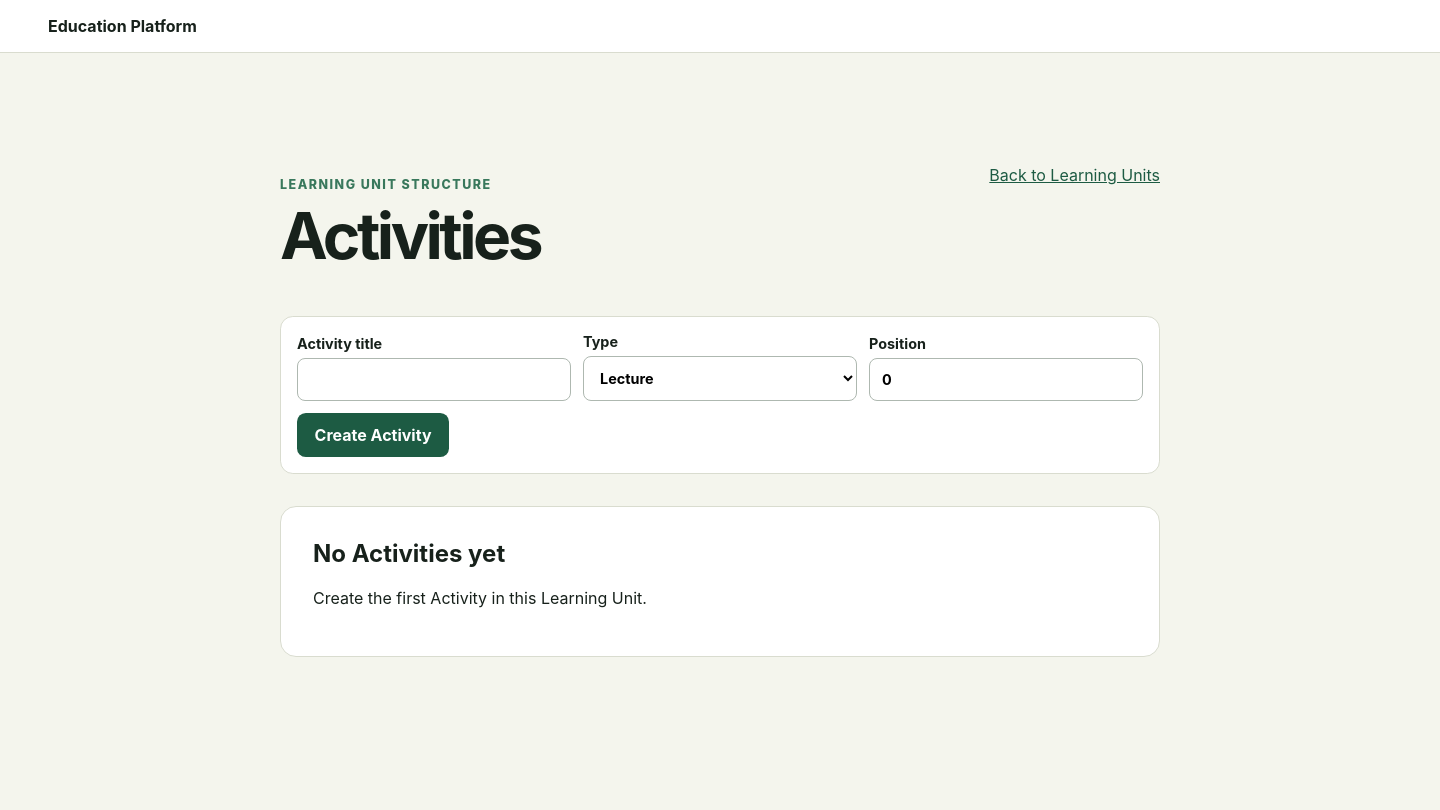
Activity UI › creates an Activity and refetches the scoped list
Type "Lecture One" into the field labelled "Activity title" at (434, 380), box [297,358,571,401]
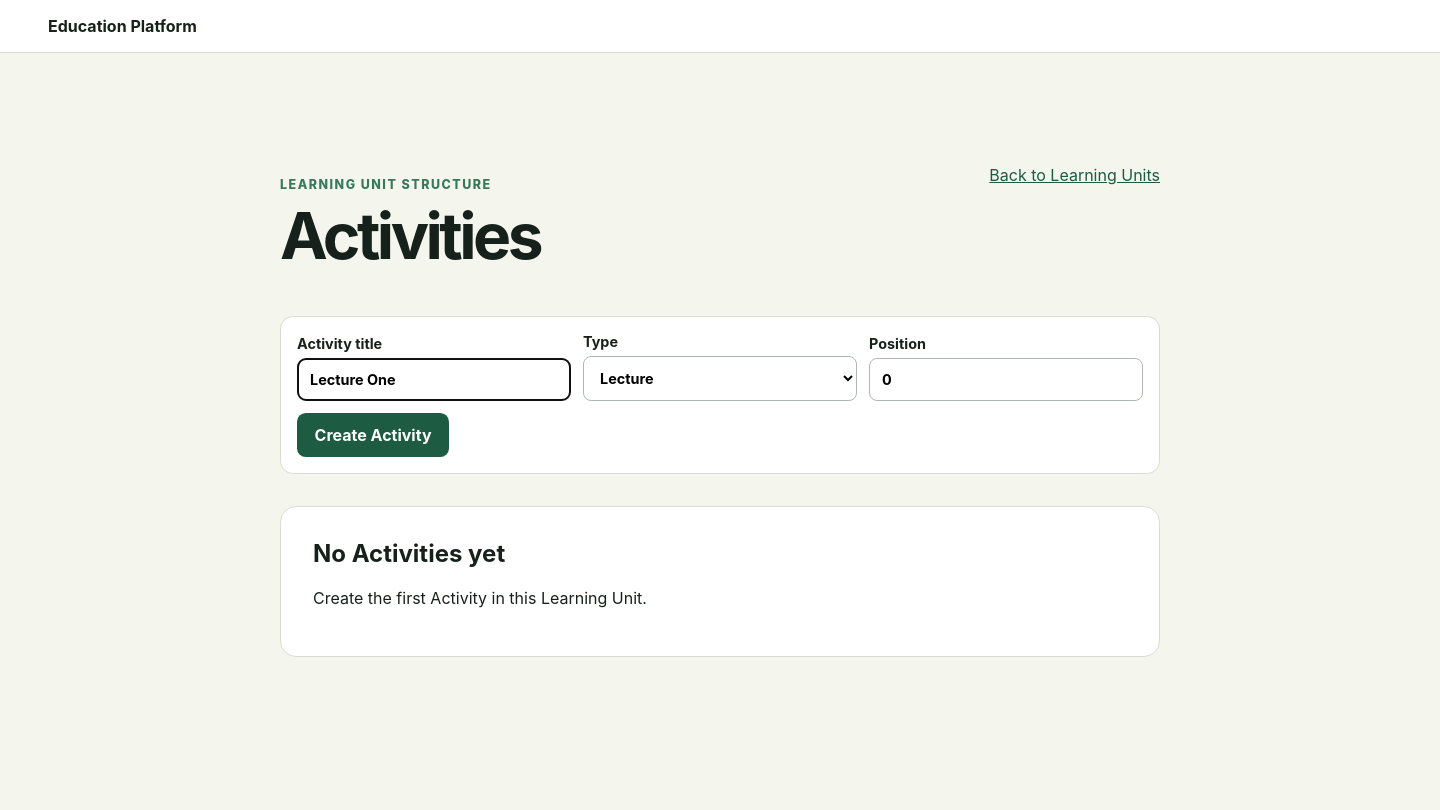
Select "Homework" in the dropdown labelled "Type" at (720, 378), box [583,356,857,401]
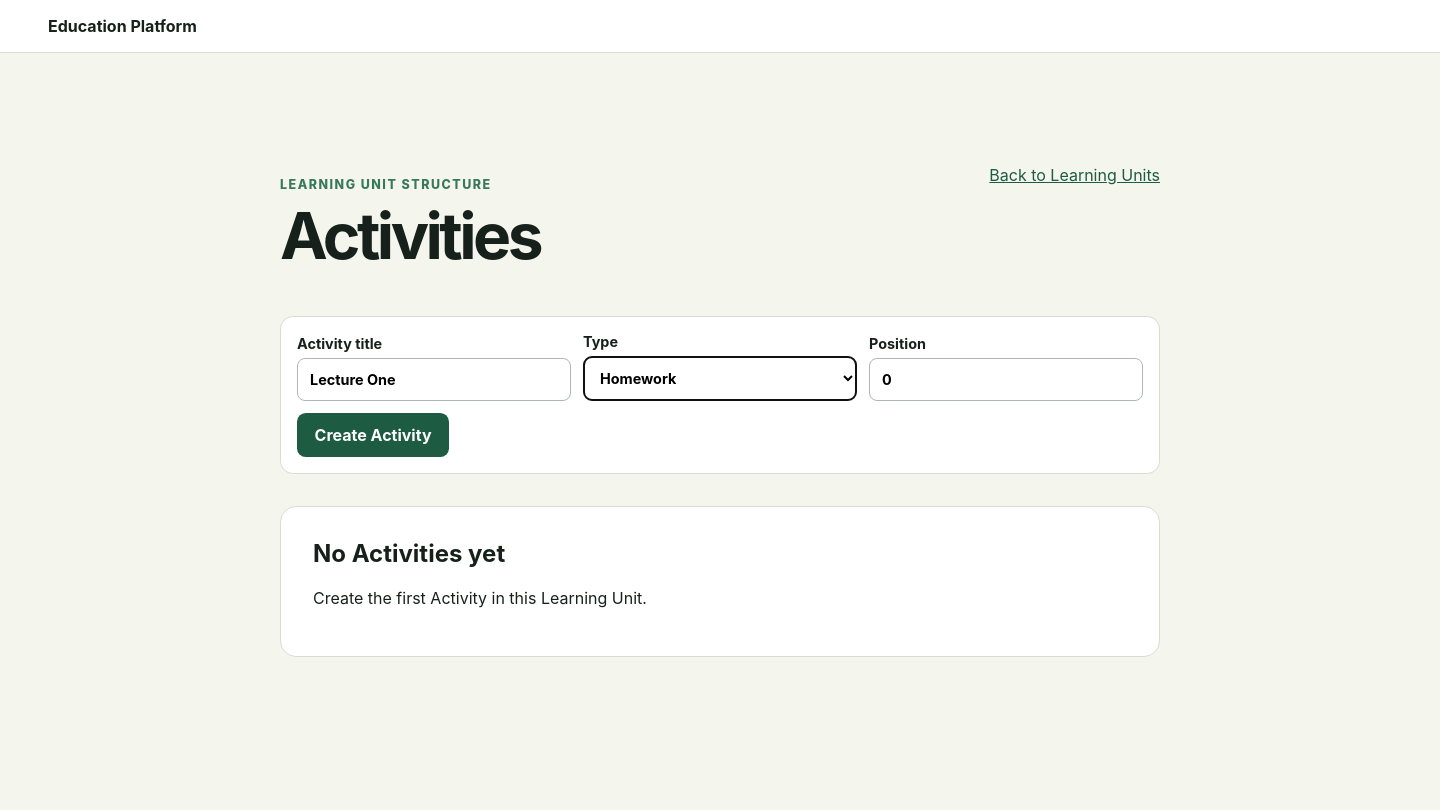
Click the button "Create Activity" at (373, 435), box [297,413,449,457]
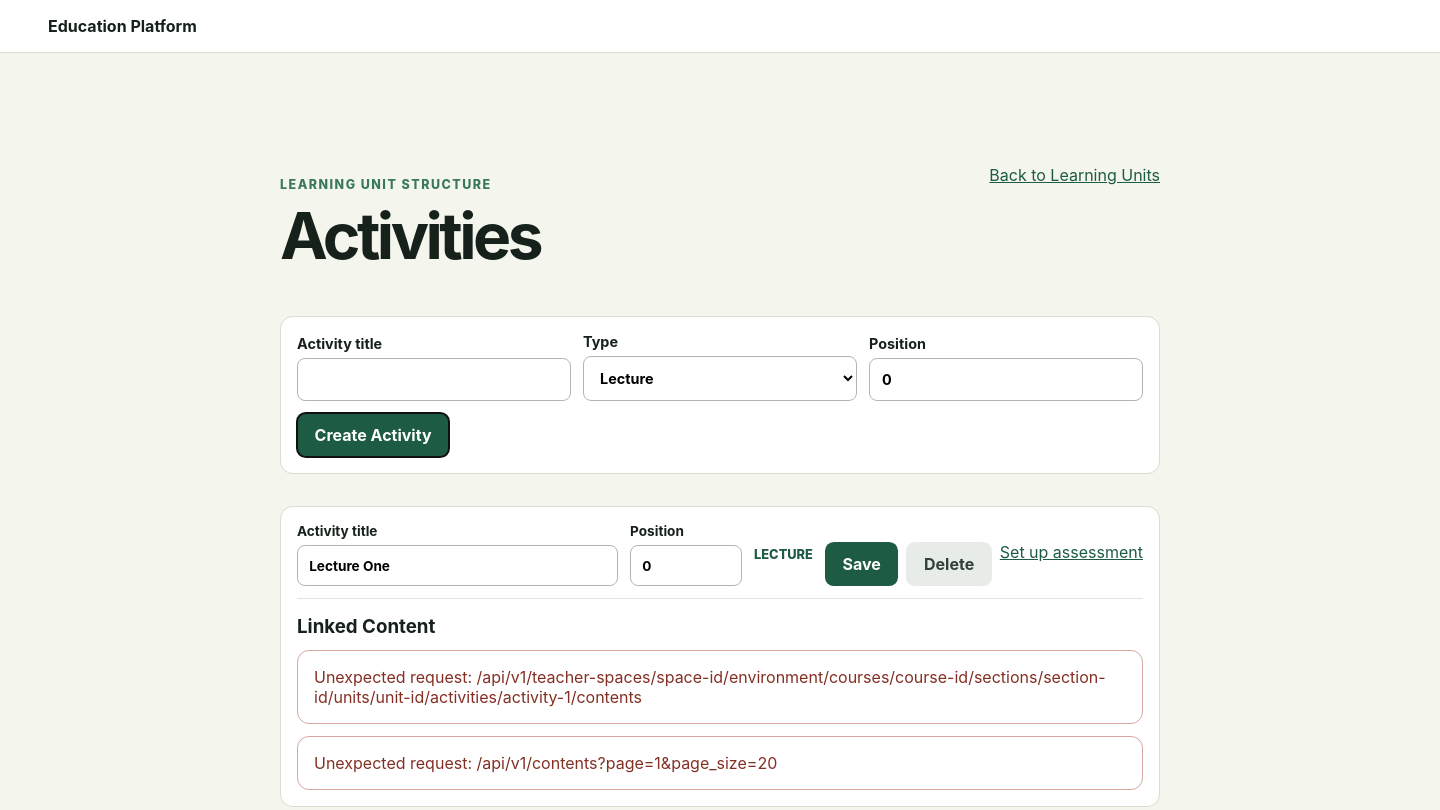
Check: the field showing "Lecture One" next to "lecture" is shown, box [297,545,618,586]
